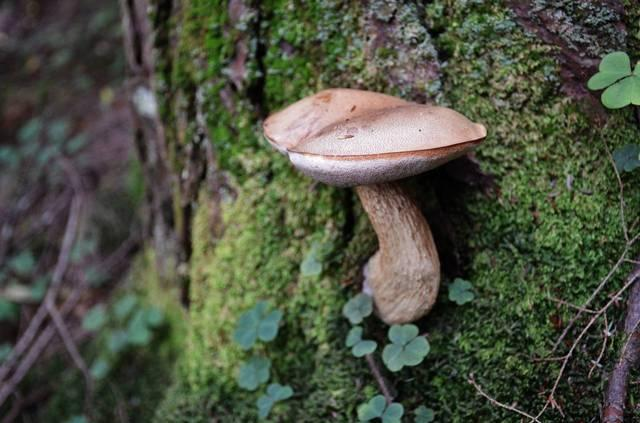poisonous_mushroom: (261, 86, 487, 325)
